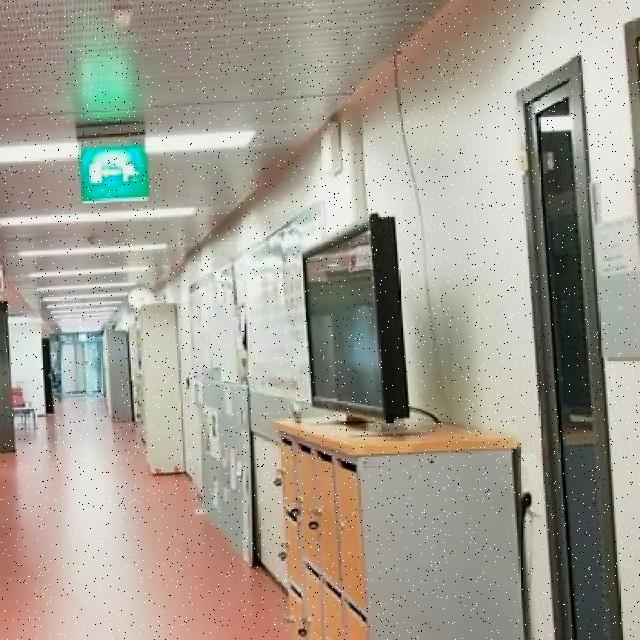emergency_exit: (79, 142, 150, 203)
